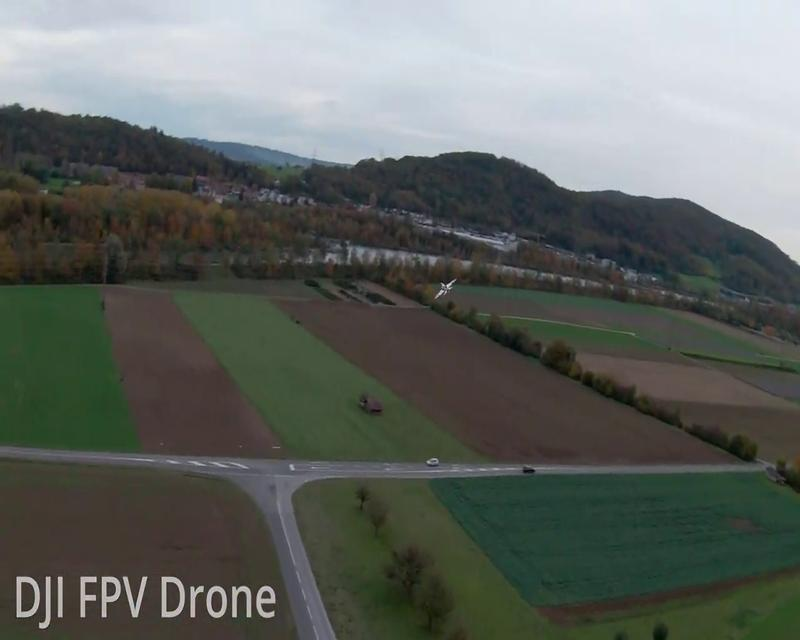UAV: (434, 278, 457, 299)
